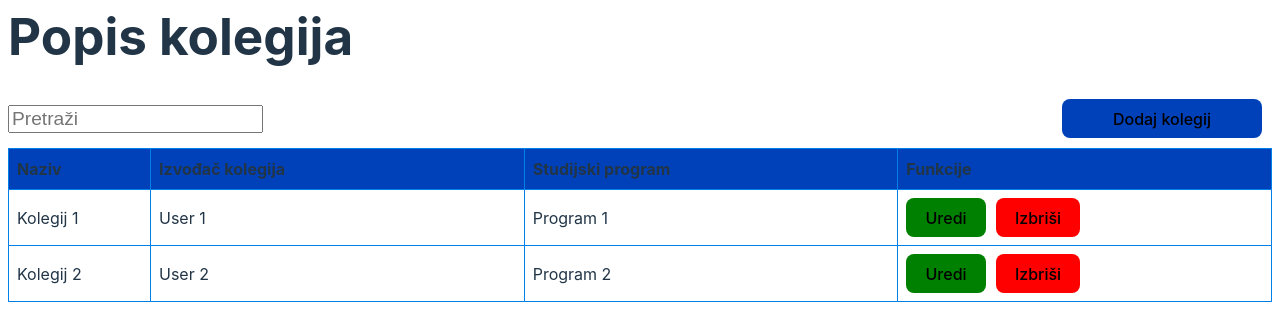
Test: KolegijiAdministrator › funkcija za pretraživanje radi
The width and height of the screenshot is (1280, 319).
Expected: the text "Kolegij 1" is shown, top-left (8, 190), bottom-right (150, 246)
Expected: the text "Kolegij 2" is shown, top-left (8, 246), bottom-right (150, 302)
Type "Kolegij 1" into the field with placeholder "Pretraži". click: (136,118)
box: top-left (8, 104), bottom-right (263, 132)
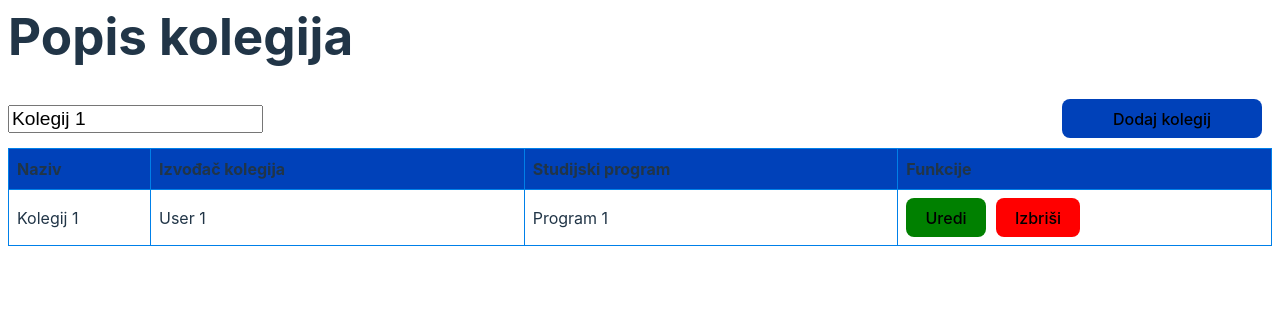
Expected: the text "Kolegij 1" is shown, top-left (8, 190), bottom-right (150, 246)
Now the text "Kolegij 2" is gone
